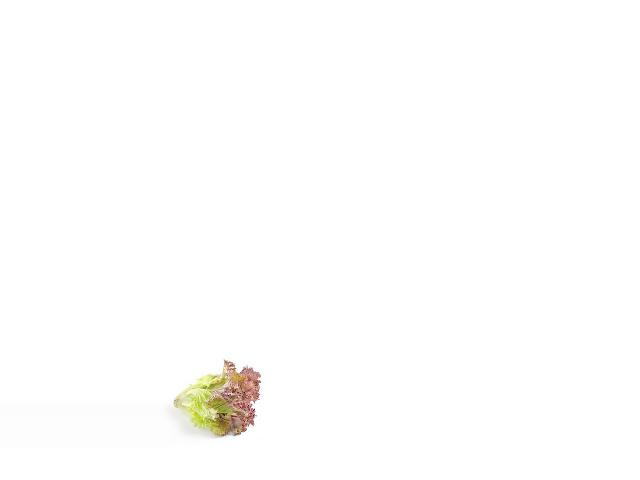lettuce: (162, 362, 265, 438)
